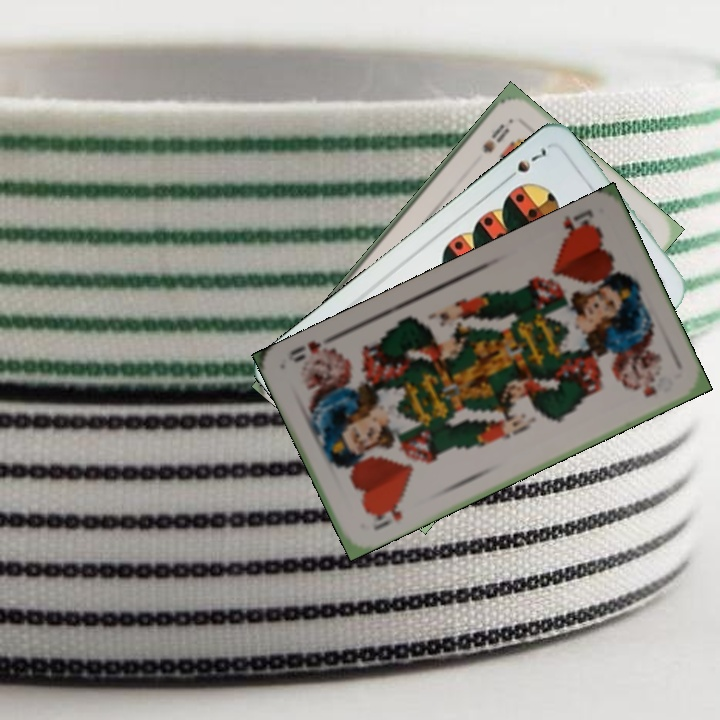HO: (558, 205, 602, 244), (368, 496, 407, 533)
S7: (501, 143, 554, 184)
S8: (478, 119, 512, 156)
